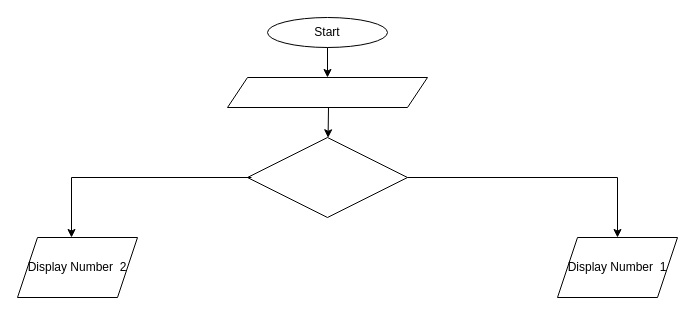
This 695x315 diagram has some shape labels left out. The shapes that lost their labels are listed below. From the top down, each one's centre as x and y in pixels, then its label:
At point (327, 92): "Input Number 1, Number 2".
At point (327, 177): "Is Number 1 greater than Number 2?".
